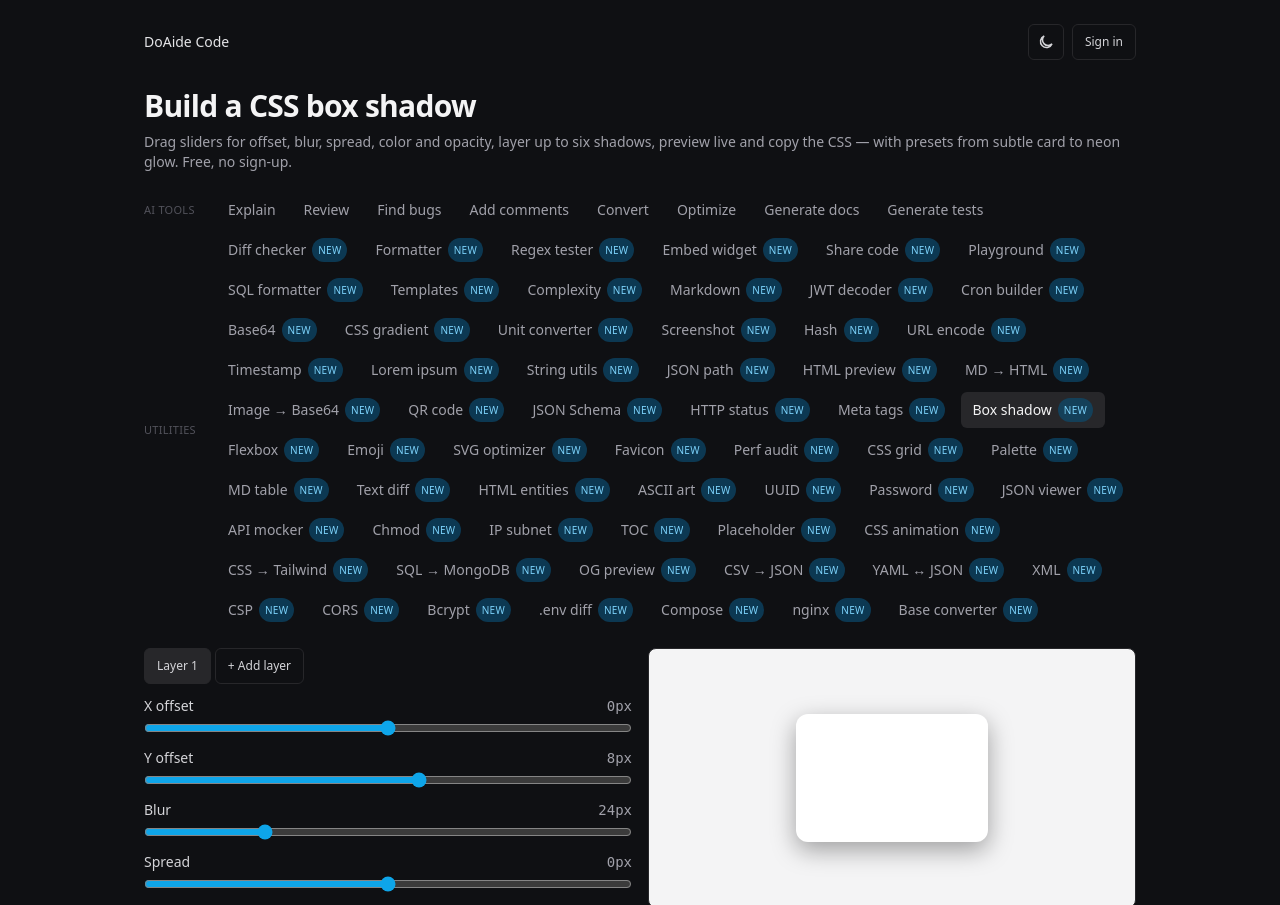
BoxShadowPage › adds, edits and removes layers
Click the button with test id "shadow-add": (260, 666) [215, 648, 304, 684]
(page scrolled)
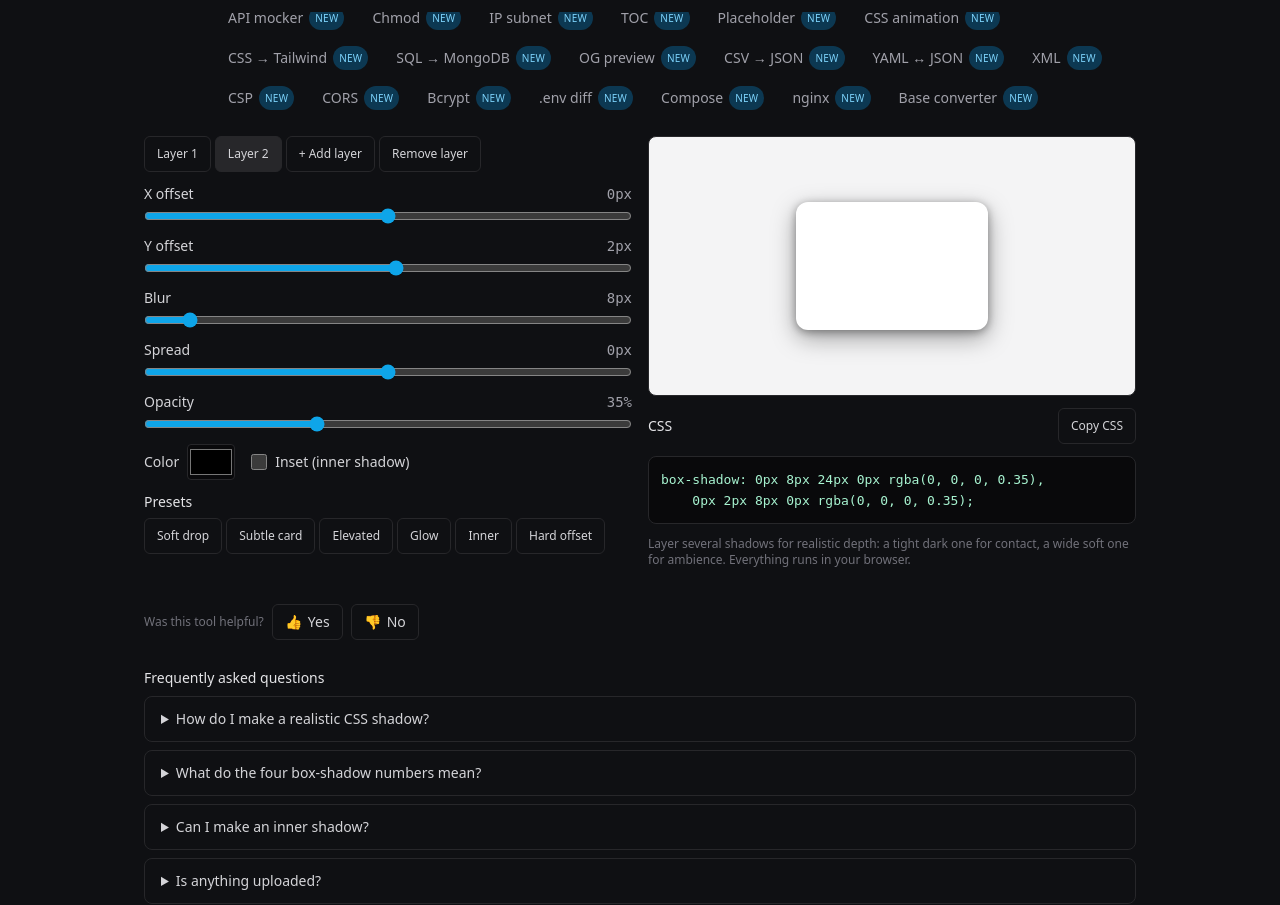
Expected: the button with test id "shadow-layer-1" is shown, [215, 136, 282, 172]
Click the checkbox with test id "shadow-inset": (259, 462) [251, 454, 267, 470]
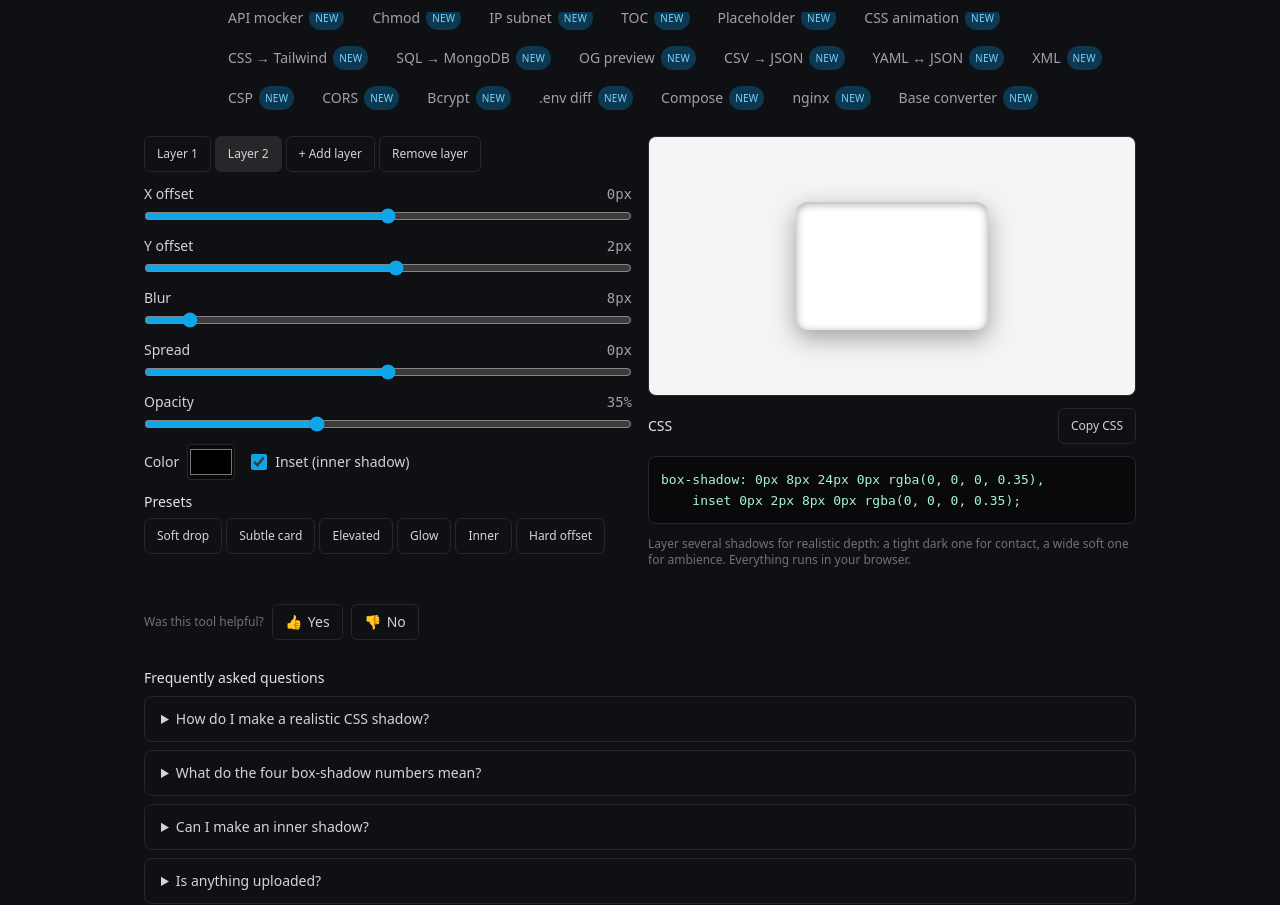
Expected: the text with test id "shadow-css" shows "inset", [661, 472, 1044, 508]
Click the button with test id "shadow-remove": (430, 154) [379, 136, 481, 172]
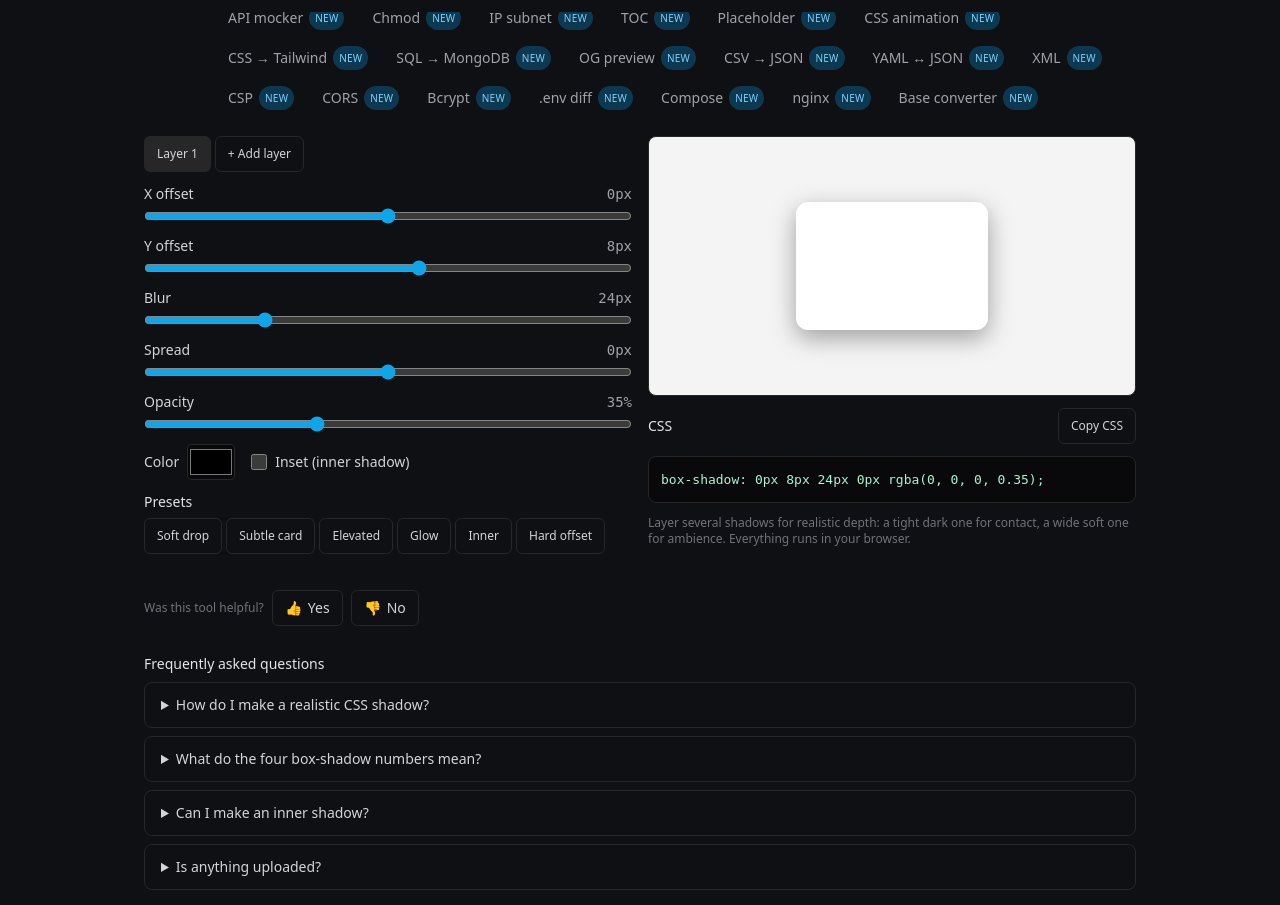
Expected: the button with test id "shadow-layer-1" is gone
Expected: the element with test id "shadow-css" no longer shows "inset"
